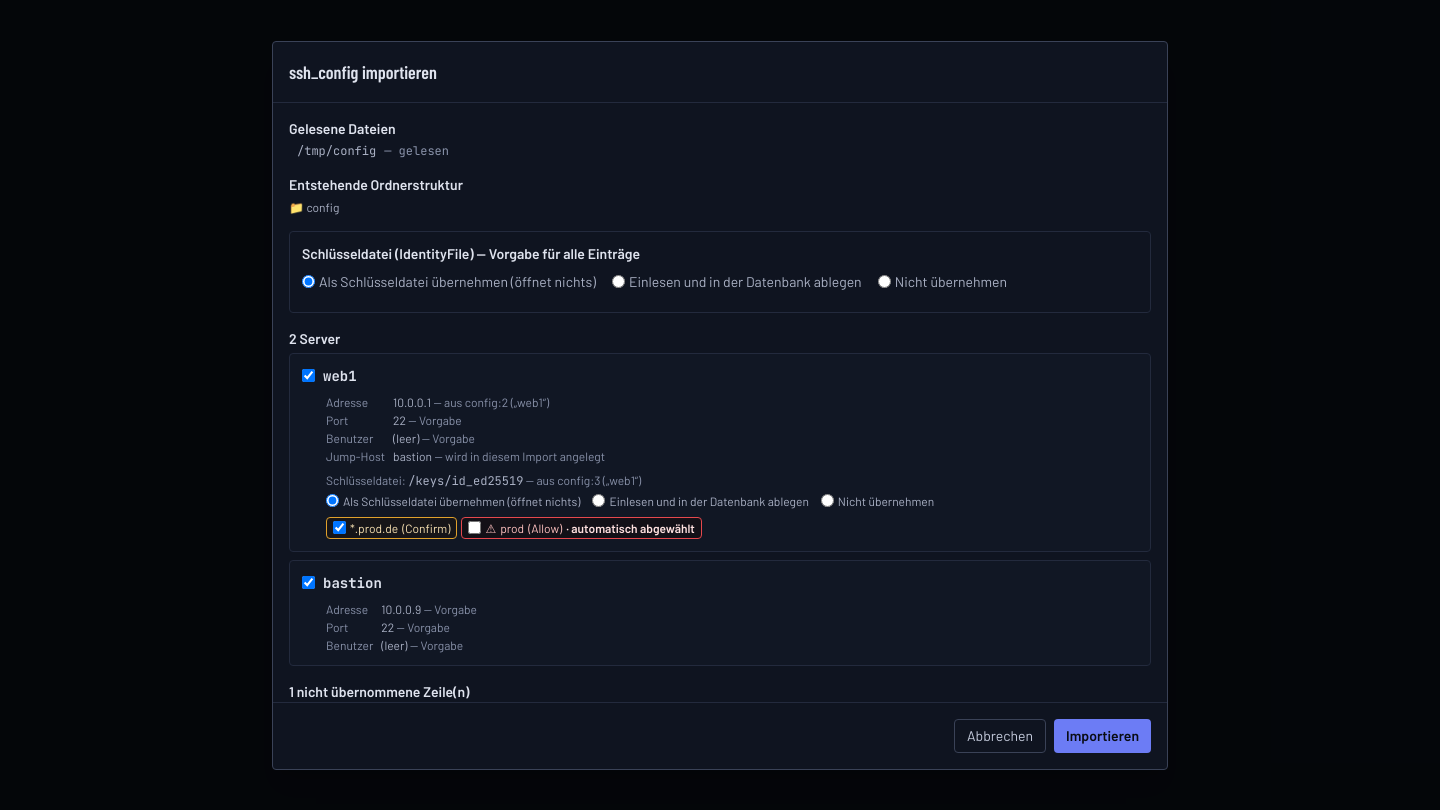
Test: SshConfigImportDialog (Spec 0075, §3.1.7) › recomputes the 'will open' file list when the identity mode changes — not a static list
Expected: the text "web1" is shown, [323, 366, 357, 386]
Expected: the text "würden beim Bestätigen gelesen" is not shown
Click the 1st radio button labelled "Einlesen und in der Datenbank ablegen": x=618, y=282 [612, 275, 625, 288]
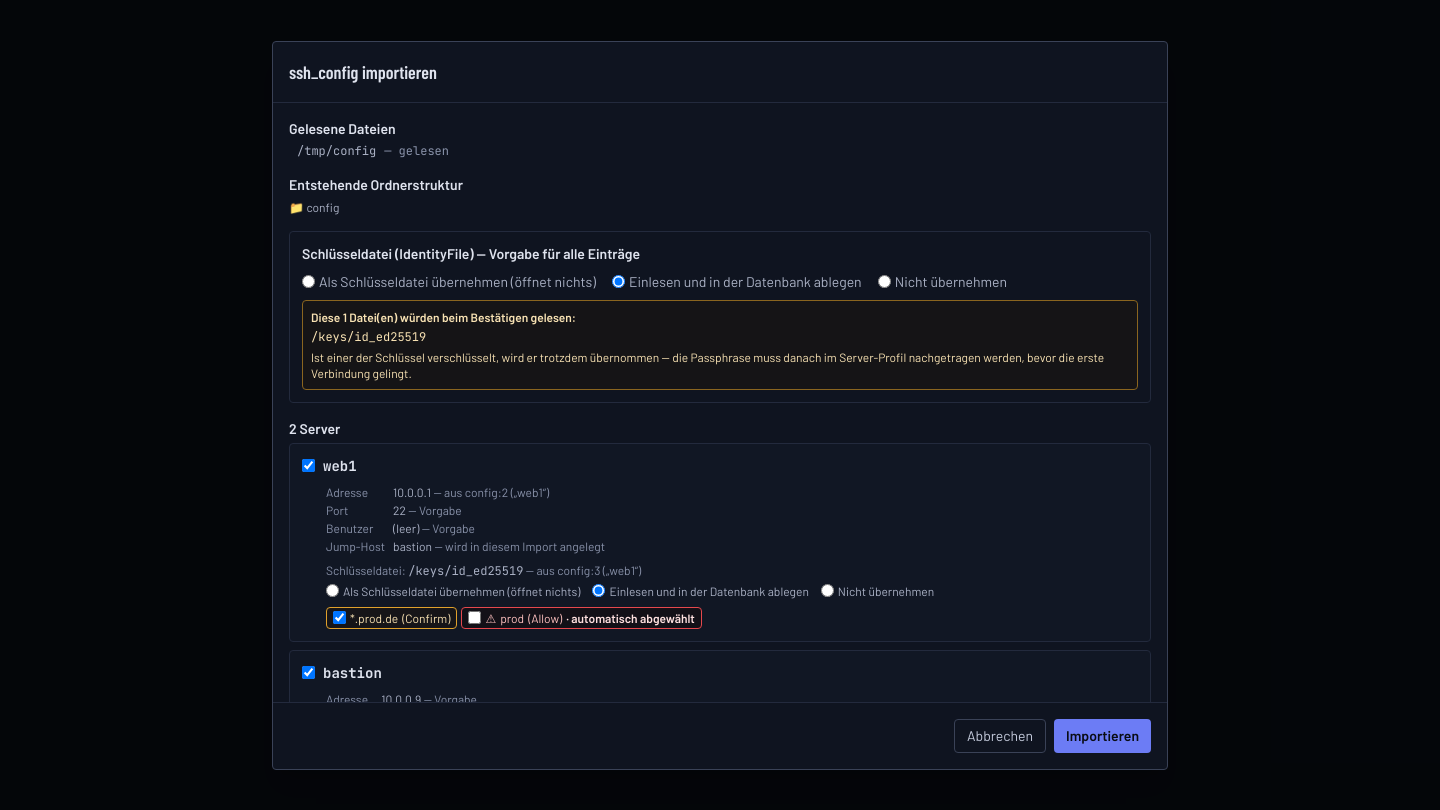
Now the text "würden beim Bestätigen gelesen" shows "/keys/id_ed25519", box [311, 328, 426, 344]
